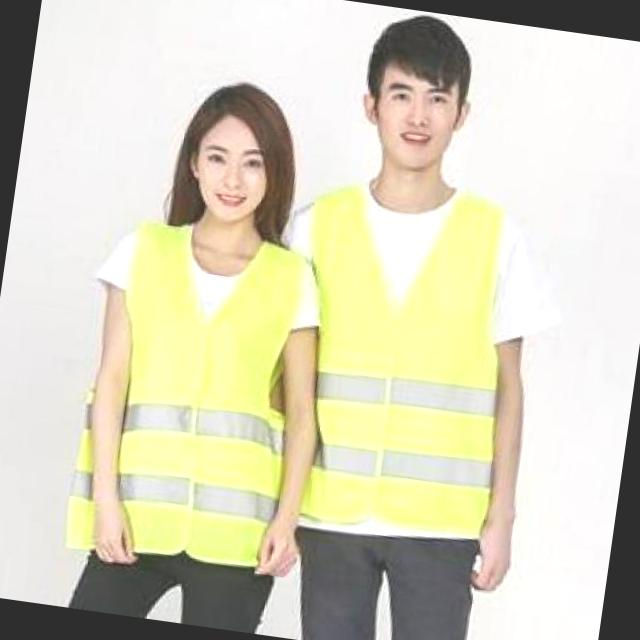no-gloves: (74, 482, 162, 598), (446, 496, 532, 611), (237, 505, 312, 596)
no-helmet: (164, 44, 306, 240), (336, 2, 498, 172)
vest: (272, 165, 534, 554), (62, 212, 329, 576)
